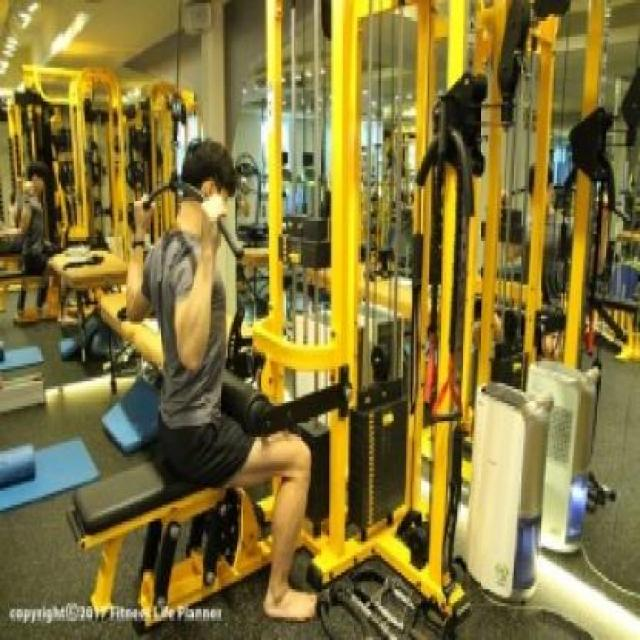Lat Pull Down: (61, 0, 462, 640)
